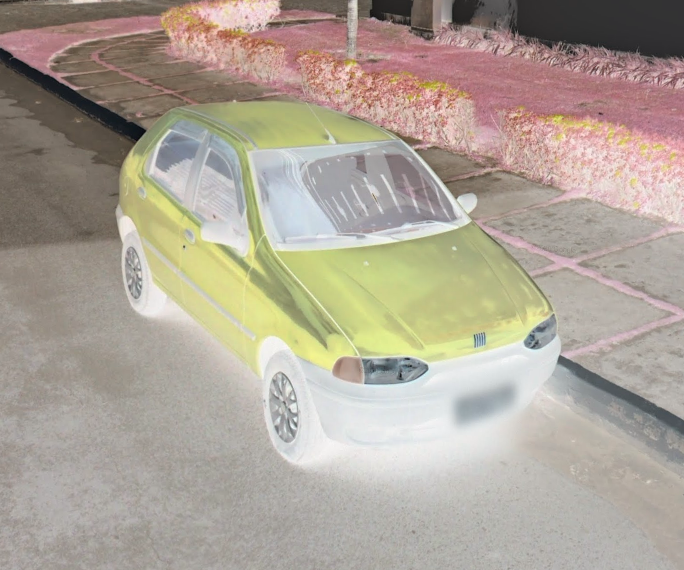car: (114, 93, 566, 469)
